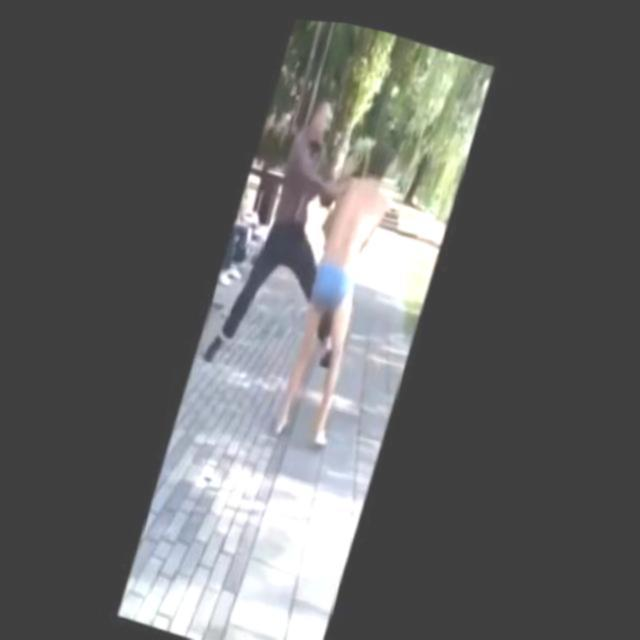fight: (193, 74, 424, 450)
